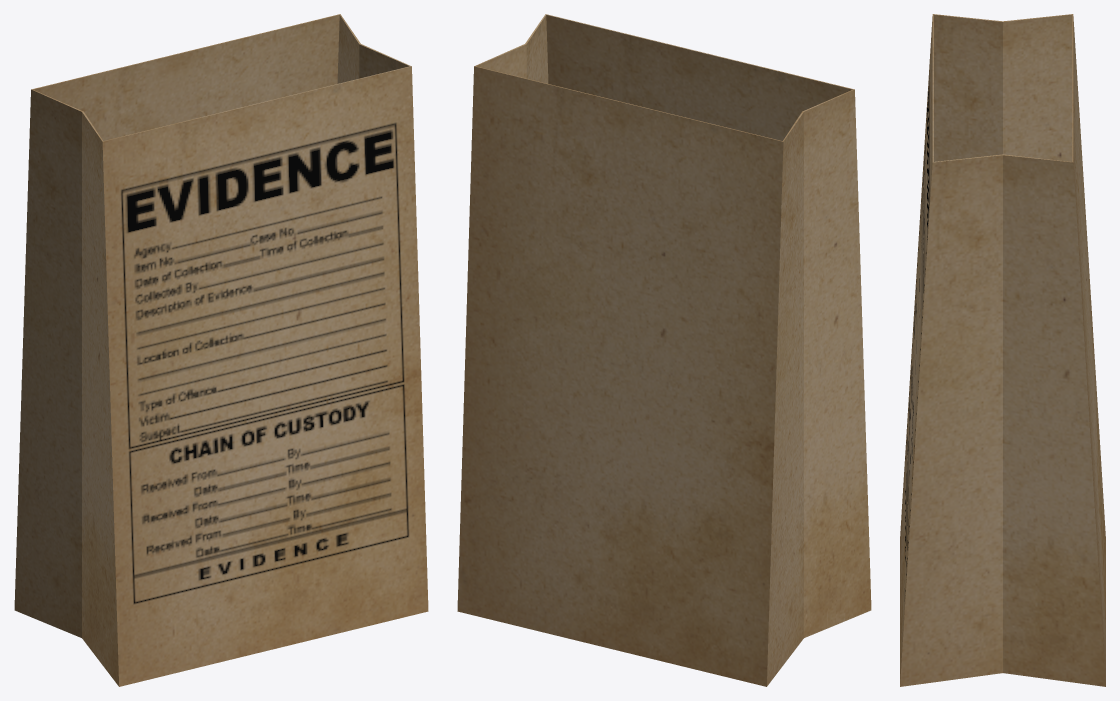
File: evidence_bags_01_open.fbx
3 renders of one model, left to right at view 1: azimuth 30°, elevation 25°; view 2: azimuth 150°, elevation 25°; view 3: azimuth 270°, elevation 25°, orthographic.
Parts seen in each view (by area): view 1: Evidence bag open; view 2: Evidence bag open; view 3: Evidence bag open.
Part boxes in pixels (x1,y1,x2,y2): Evidence bag open: (14, 14, 428, 686); Evidence bag open: (457, 14, 871, 686); Evidence bag open: (900, 14, 1105, 686).
Bounding box in the file's own units: 33.46 × 55.09 × 19.6.
